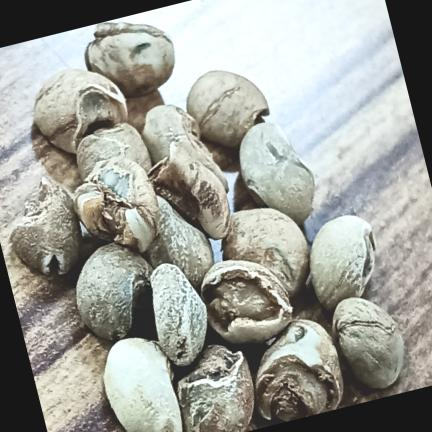broken: (255, 319, 343, 421), (33, 68, 127, 153), (74, 158, 159, 252), (148, 142, 230, 239), (221, 208, 309, 298), (200, 259, 292, 343), (141, 104, 228, 192), (239, 122, 314, 224), (103, 337, 182, 432), (76, 243, 152, 339), (10, 177, 81, 274), (177, 344, 254, 432), (85, 21, 174, 97), (145, 195, 214, 291), (332, 297, 403, 388), (186, 70, 269, 147), (309, 215, 375, 311), (150, 263, 207, 366), (76, 122, 151, 179)
